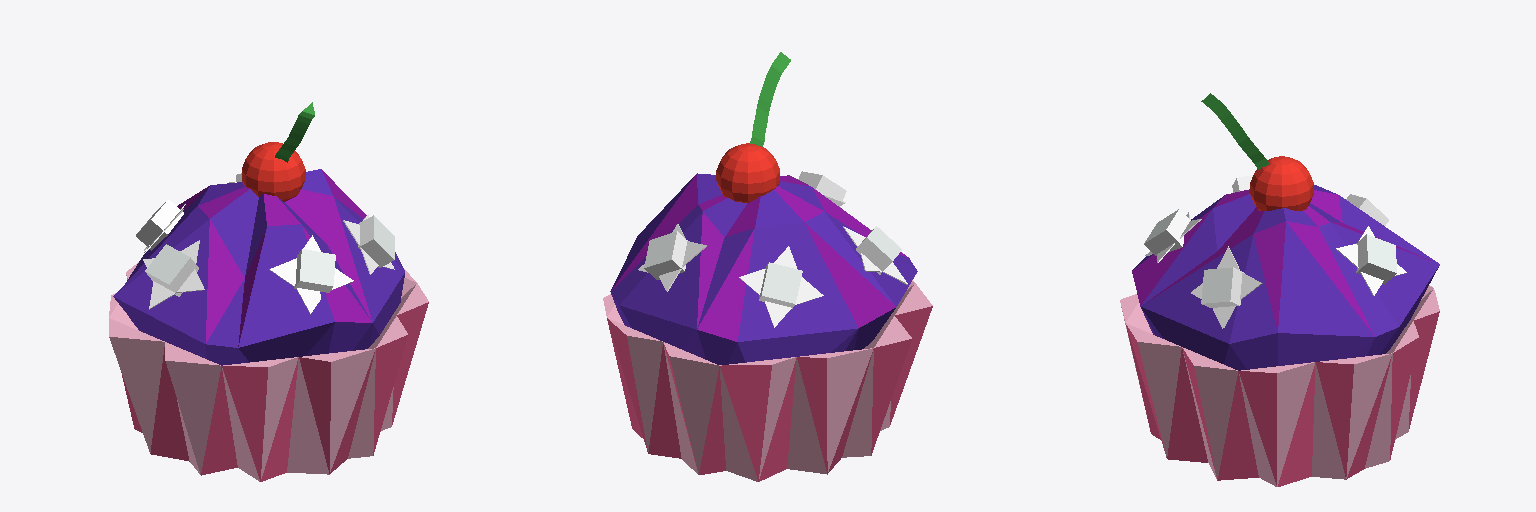
3 views of the same model, side by side, from view 1: azimuth 30°, elevation 25°; view 2: azimuth 150°, elevation 25°; view 3: azimuth 270°, elevation 25° (orthographic).
Parts seen in each view (by area): view 1: group[number redacted], group[number redacted], group[number redacted]; view 2: group[number redacted], group[number redacted], group[number redacted]; view 3: group[number redacted], group[number redacted], group[number redacted].
Part boxes in pixels (left/top/right/bottom): group[number redacted]: left=109, top=169, right=428, bottom=481; group[number redacted]: left=242, top=142, right=305, bottom=201; group[number redacted]: left=275, top=102, right=314, bottom=162; group[number redacted]: left=603, top=171, right=932, bottom=481; group[number redacted]: left=716, top=143, right=779, bottom=202; group[number redacted]: left=750, top=52, right=790, bottom=146; group[number redacted]: left=1120, top=175, right=1439, bottom=486; group[number redacted]: left=1250, top=156, right=1313, bottom=210; group[number redacted]: left=1201, top=93, right=1269, bottom=169.
Size of the model in its own units: 0.2072 by 0.236 by 0.1975.